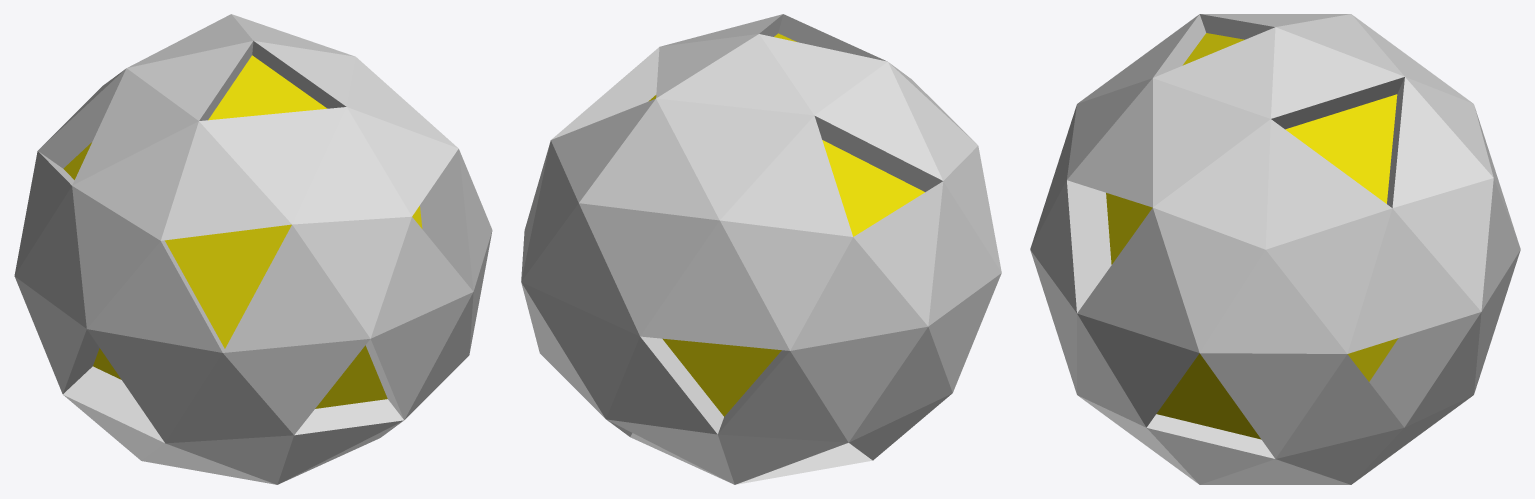
File: asteroide_1_Ye.glb
3 views of the same model, side by side, from view 1: azimuth 30°, elevation 25°; view 2: azimuth 150°, elevation 25°; view 3: azimuth 270°, elevation 25° (orthographic). The views are drawn at different scales.
Visible parts, largest first — view 1: Icosphere; view 2: Icosphere; view 3: Icosphere.
Part boxes in pixels (x1,y1,x2,y2): Icosphere: [14, 14, 492, 484]; Icosphere: [521, 14, 1001, 484]; Icosphere: [1030, 14, 1520, 484].
Bounding box in the file's own units: 1 × 1 × 1.
